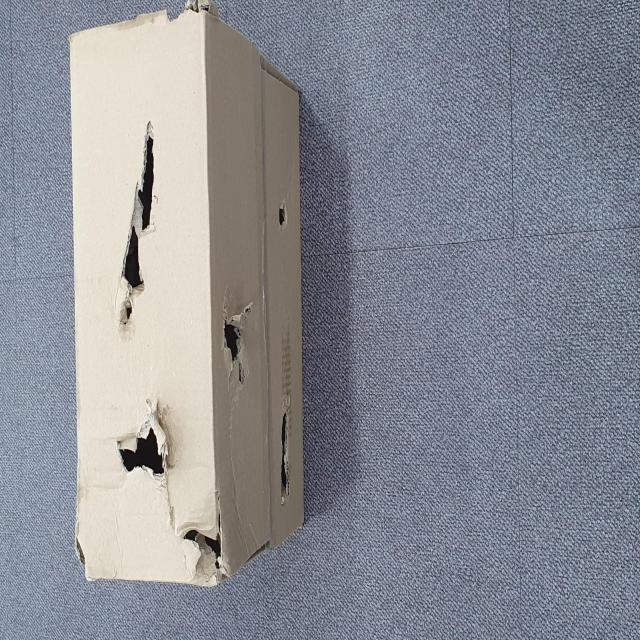damaged: (115, 118, 162, 328), (112, 397, 176, 499), (180, 492, 226, 588), (220, 290, 253, 396), (277, 402, 293, 509), (277, 197, 288, 232)
